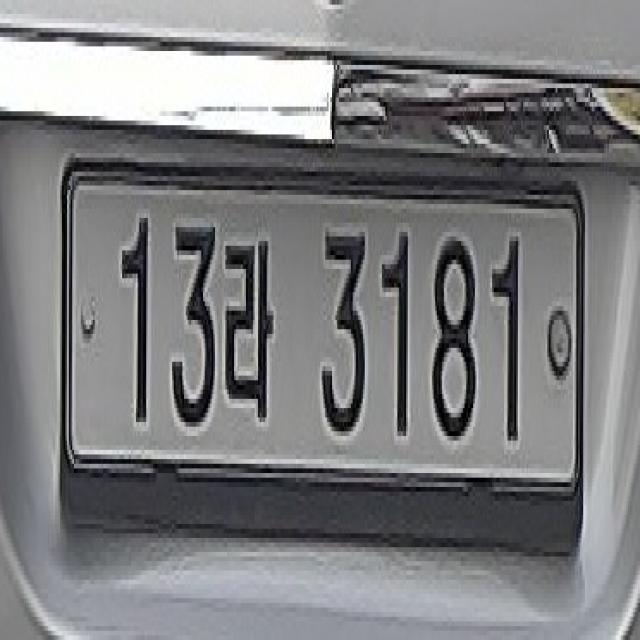1: (483, 222, 535, 454), (114, 199, 162, 436), (375, 218, 423, 450)
3: (317, 218, 375, 445), (165, 204, 220, 436)
8: (425, 213, 485, 450)
la: (222, 214, 287, 441)
license_plate: (59, 153, 586, 589)
